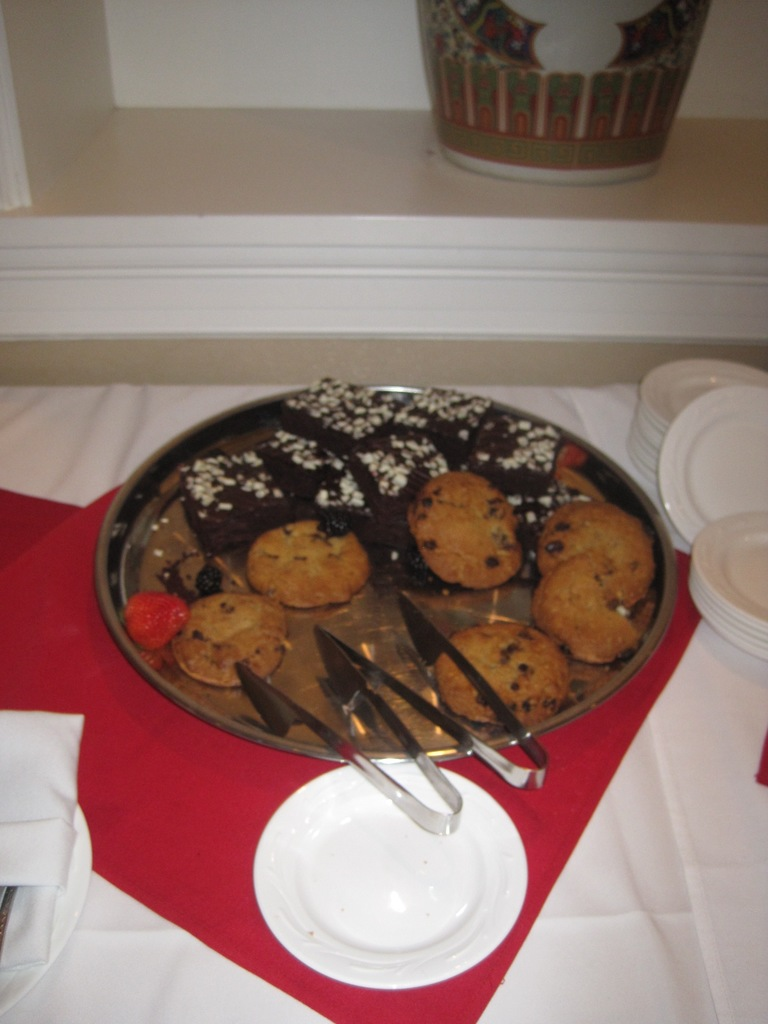plate: (268, 781, 534, 979)
